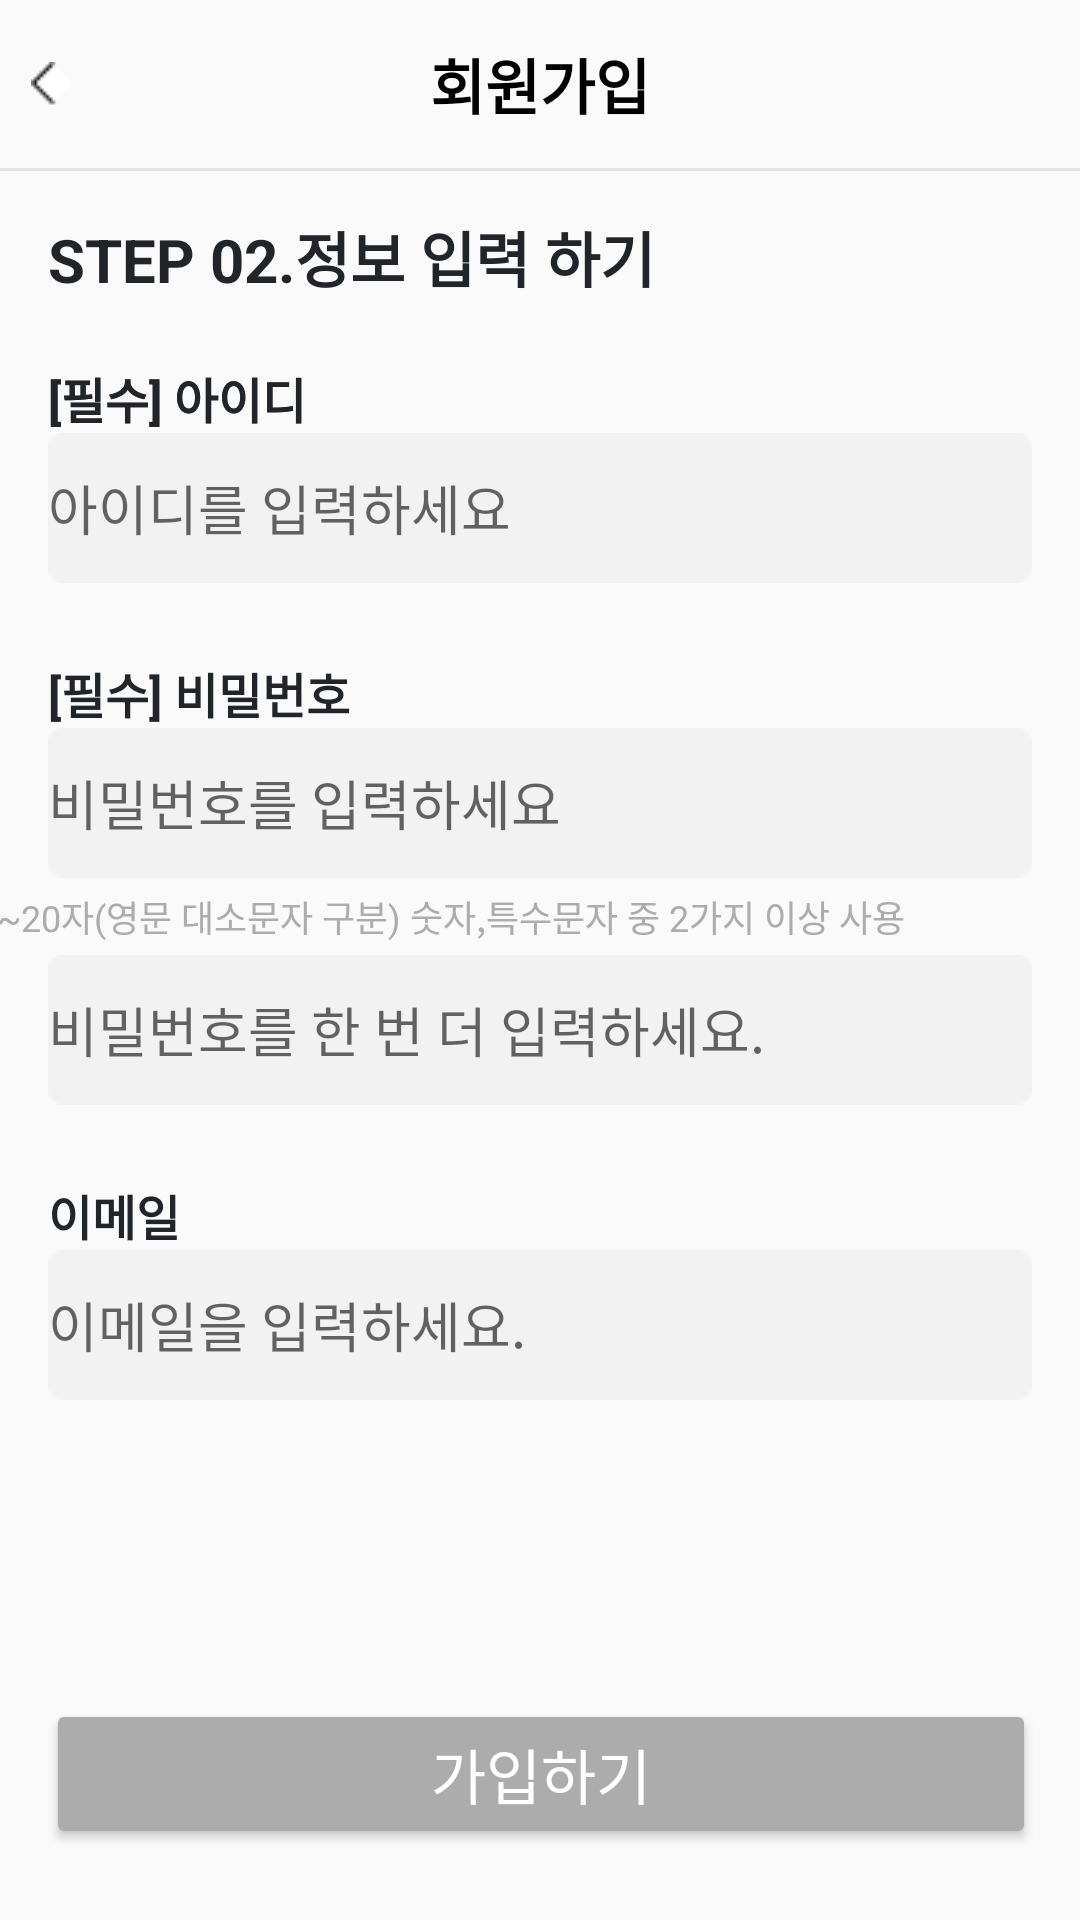

Screen size 1080w x 1920h. Icon name, then its center in pixels as (x=x, y=y):
back: (x=43, y=83)
